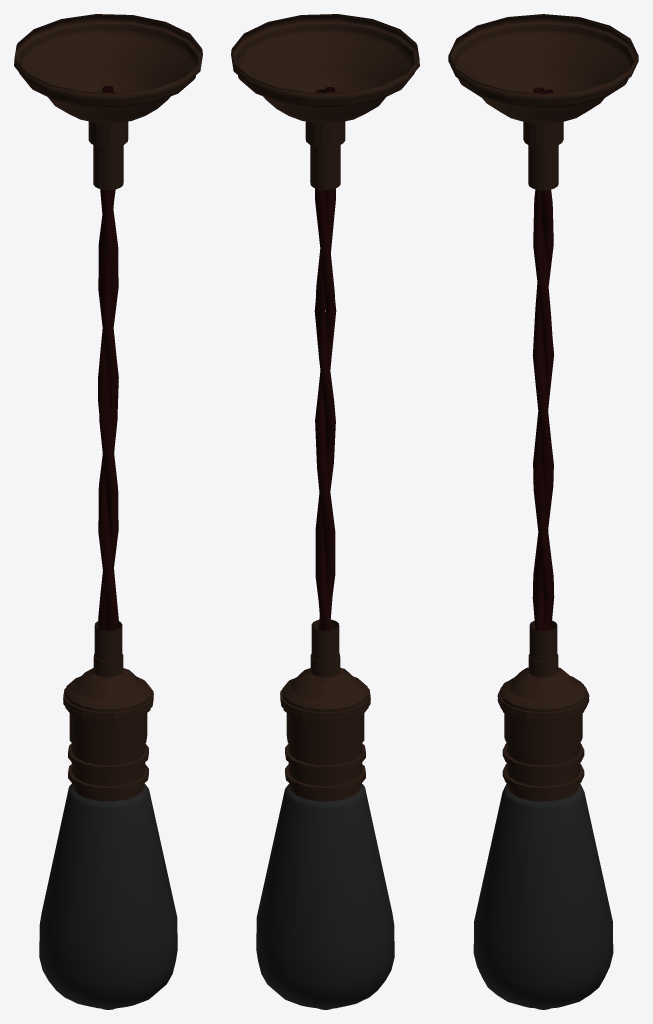
File: Light_.FBX
3 views of the same model, side by side, from view 1: azimuth 30°, elevation 25°; view 2: azimuth 150°, elevation 25°; view 3: azimuth 270°, elevation 25° (orthographic).
Parts seen in each view (by area): view 1: Light002, Line1789529585, Line1789529583, Line1789529582; view 2: Light002, Line1789529585, Line1789529583, Line1789529582; view 3: Light002, Line1789529585, Line1789529583, Line1789529582.
Boxes of the visible parts, bbox=[...] form: Light002: bbox=[39, 784, 177, 1009]; Line1789529585: bbox=[14, 14, 202, 190]; Line1789529583: bbox=[63, 621, 153, 801]; Line1789529582: bbox=[98, 86, 118, 630]; Light002: bbox=[256, 784, 394, 1009]; Line1789529585: bbox=[231, 14, 419, 189]; Line1789529583: bbox=[280, 619, 370, 801]; Line1789529582: bbox=[314, 87, 336, 630]; Light002: bbox=[473, 783, 613, 1009]; Line1789529585: bbox=[448, 14, 638, 190]; Line1789529583: bbox=[497, 620, 589, 801]; Line1789529582: bbox=[532, 87, 554, 630].
Bounding box in the file's own units: 103 × 571 × 103.
